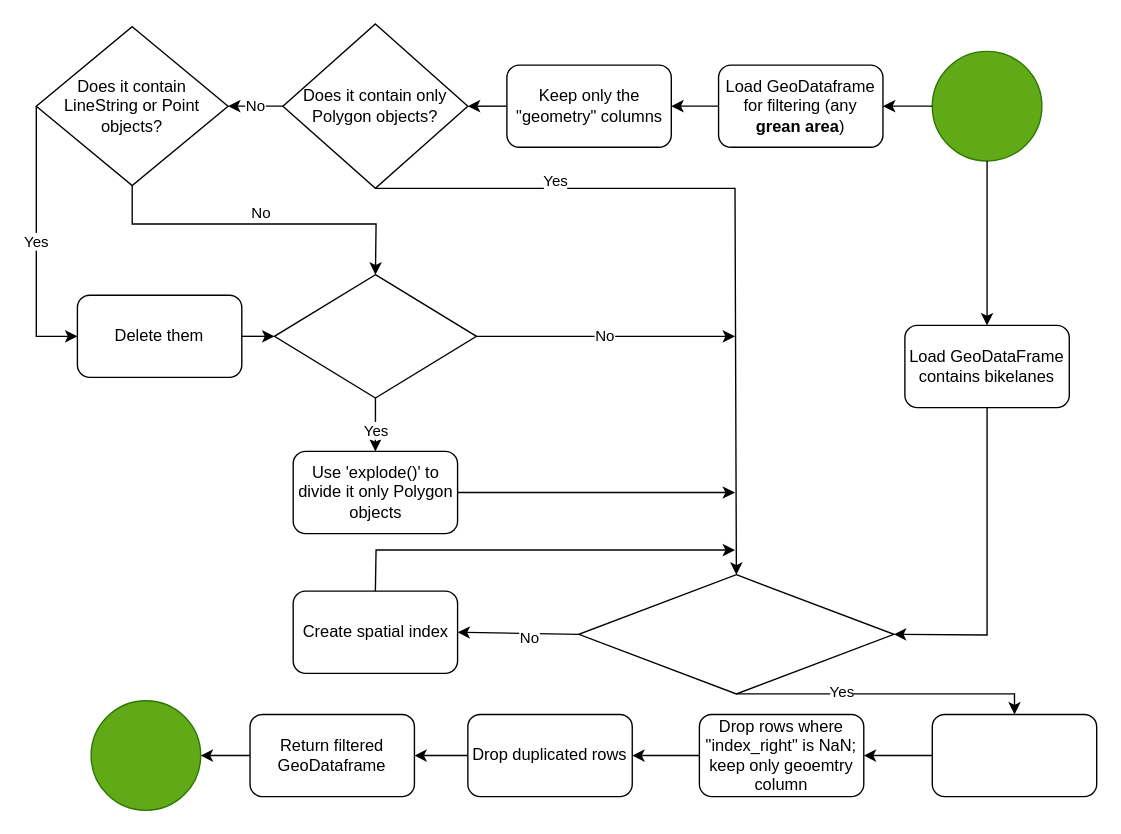
This 1121x834 diagram has some shape labels left out. Each missing label, with the centre of its shape:
"Does it contain MultiPolygon?" belongs at (x=374, y=335).
"END" belongs at (x=145, y=754).
"Is there a spatial index for both dataframes?" belongs at (x=735, y=633).
"Perform spatial join" belongs at (x=1014, y=755).
"START" belongs at (x=986, y=105).
